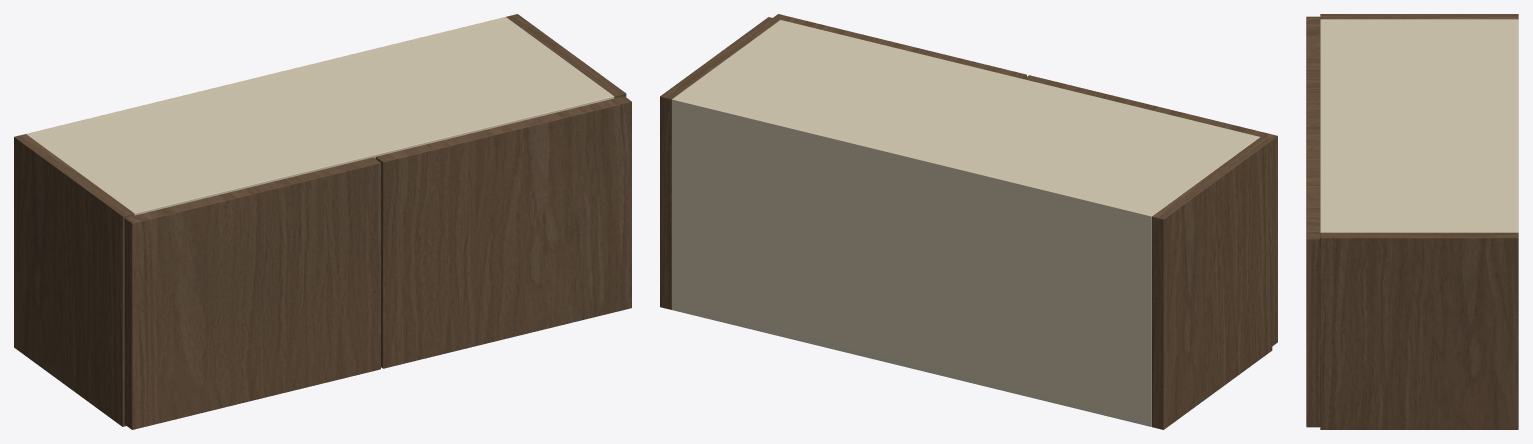
Rendered from oppein-ply-mso-w3012.glb.
The picture shows the model from 3 angles, left to right: view 1: azimuth 30°, elevation 25°; view 2: azimuth 150°, elevation 25°; view 3: azimuth 270°, elevation 25°; orthographic projection. The views are drawn at different scales.
Parts seen in each view (by area): view 1: Door, Door.001, Cabinet top, Cabinet side, Cabinet back, Cabinet side.001; view 2: Cabinet back, Cabinet top, Cabinet side, Cabinet bottom, Cabinet side.001, Door, Door.001; view 3: Cabinet top, Cabinet side.001, Door.001, Cabinet back, Door, Cabinet side.
Part boxes in pixels (box(x1,y1,x2,y2)): Door: box(124, 157, 380, 429); Door.001: box(375, 96, 631, 368); Cabinet top: box(30, 17, 614, 215); Cabinet side: box(14, 134, 134, 426); Cabinet back: box(26, 17, 509, 136); Cabinet side.001: box(506, 14, 626, 98); Cabinet back: box(672, 96, 1155, 426); Cabinet top: box(673, 20, 1259, 228); Cabinet side: box(1152, 137, 1272, 429); Cabinet bottom: box(672, 298, 1151, 426); Cabinet side.001: box(660, 17, 779, 309); Door: box(1024, 75, 1277, 346); Door.001: box(773, 14, 1026, 78); Cabinet top: box(1320, 19, 1517, 232); Cabinet side.001: box(1320, 232, 1518, 429); Door.001: box(1306, 128, 1320, 427); Cabinet back: box(1510, 19, 1518, 232); Door: box(1306, 16, 1320, 128); Cabinet side: box(1320, 14, 1518, 19).
Size of the model in its own units: 0.762 by 0.3048 by 0.3048.
2 materials, 1 textured.
